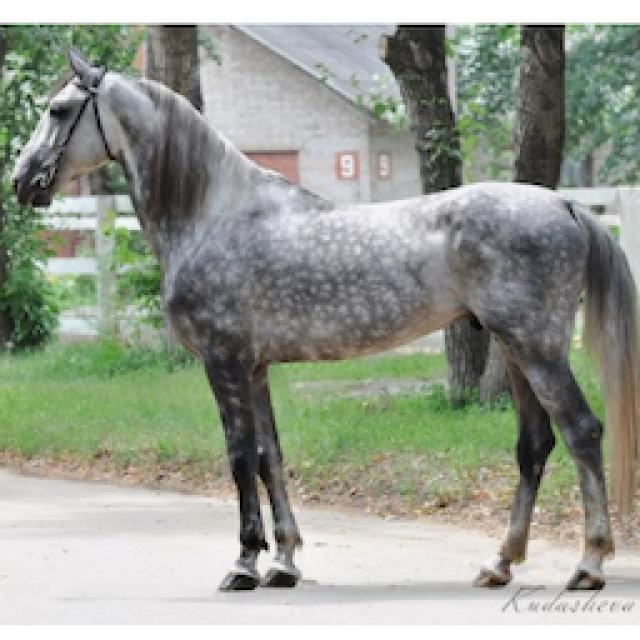Horse: (5, 42, 638, 598)
